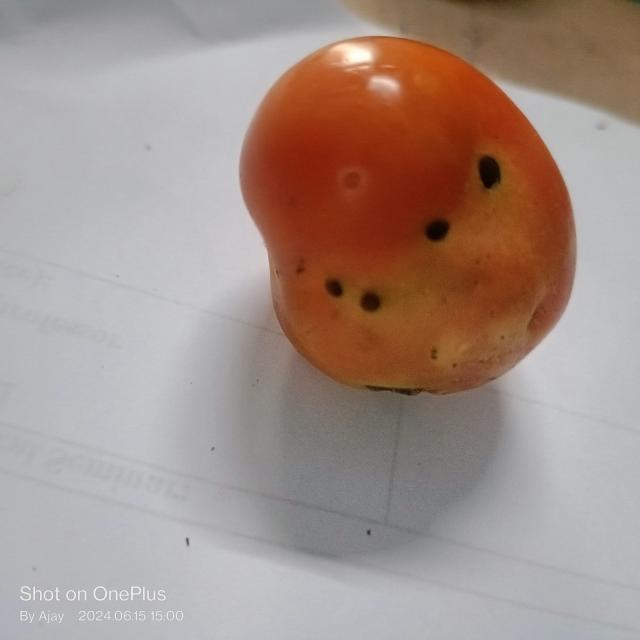fruitworm_bore: (318, 268, 393, 320), (473, 152, 510, 199), (420, 215, 450, 250)
